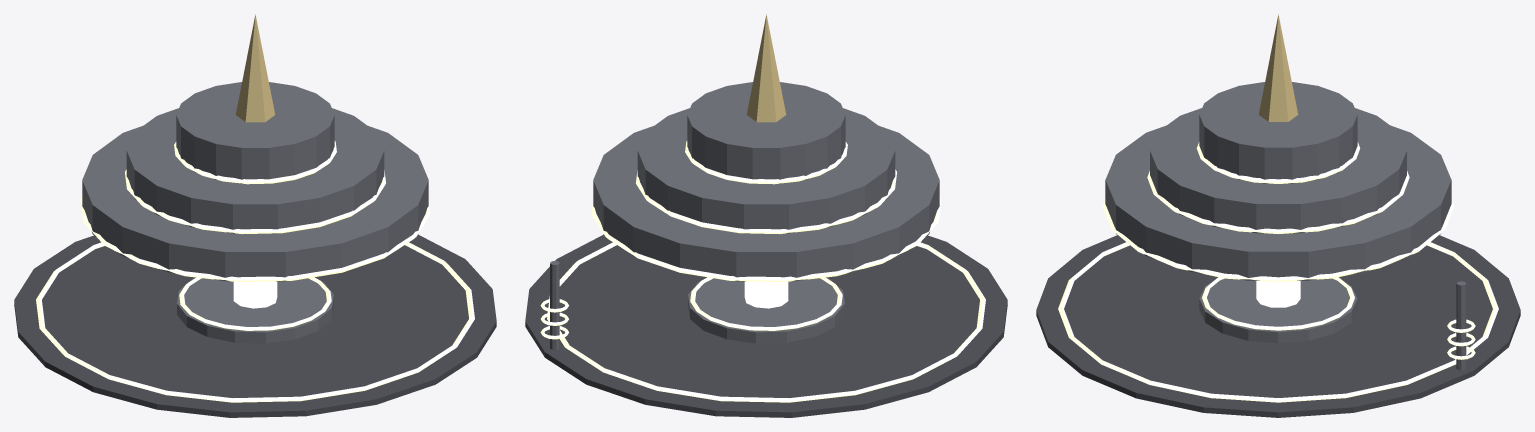
The model's file is zone_low_2_t3.glb.
3 renders of one model, left to right at view 1: azimuth 30°, elevation 25°; view 2: azimuth 150°, elevation 25°; view 3: azimuth 270°, elevation 25°, orthographic.
Parts seen in each view (by area): view 1: zone_low_2_t3, detail; view 2: zone_low_2_t3, detail; view 3: zone_low_2_t3, detail.
Boxes of the visible parts, x1,y1,x2,y2 form: zone_low_2_t3: (14,14,496,417); detail: (36,242,474,402); zone_low_2_t3: (525,14,1007,417); detail: (540,242,985,402); zone_low_2_t3: (1036,14,1520,417); detail: (1058,242,1498,402).
Size of the model in its own units: 19.6 by 13.47 by 19.6.
